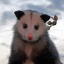opossum: (9, 10, 61, 64)
